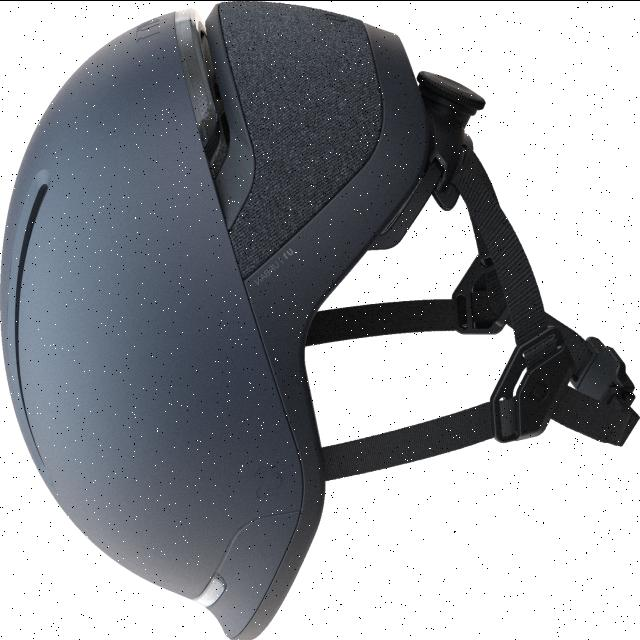Helmet: (8, 0, 456, 640)
